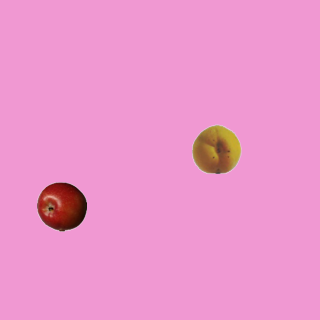Apple Braeburn: (36, 181, 86, 231)
Peach 2: (191, 123, 241, 173)
